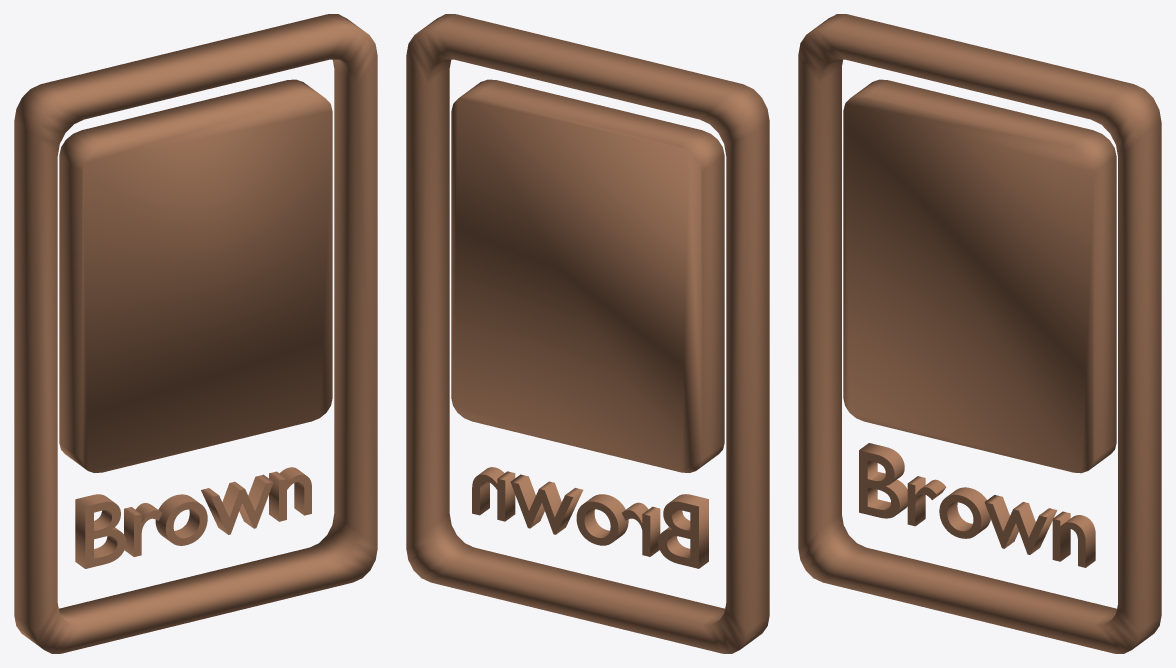
File: Color_Brown.gltf
3 renders of one model, left to right at view 1: azimuth 30°, elevation 25°; view 2: azimuth 150°, elevation 25°; view 3: azimuth 330°, elevation 25°, orthographic.
Parts seen in each view (by area): view 1: Text.003; view 2: Text.003; view 3: Text.003.
Boxes of the visible parts, x1,y1,x2,y2 form: Text.003: (14, 14, 377, 653); Text.003: (406, 14, 769, 653); Text.003: (798, 14, 1161, 653).
Size of the model in its own units: 1 by 1.56 by 0.1143.
